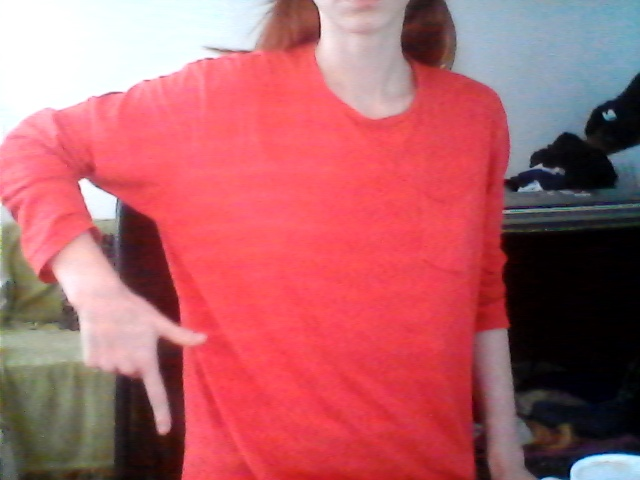policia: (60, 272, 218, 450)
